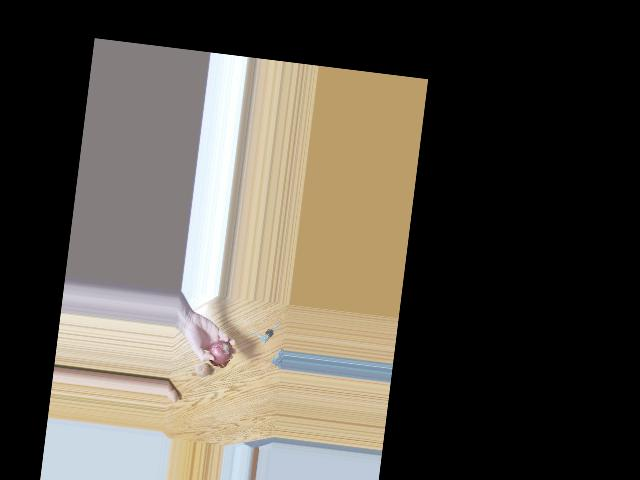onion: (209, 339, 233, 363)
